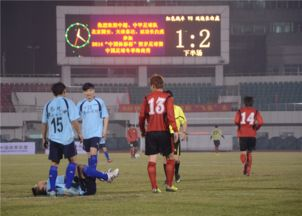fall: (28, 156, 120, 198)
